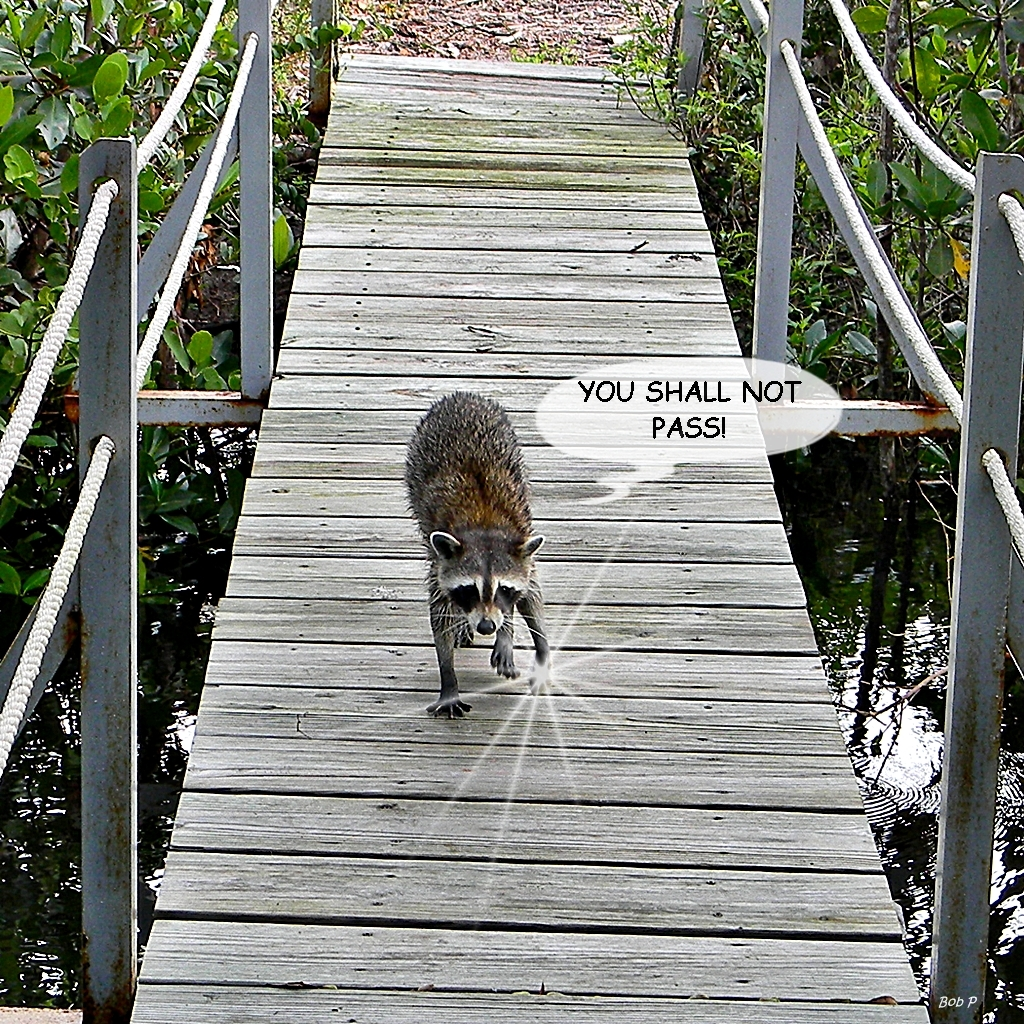raccoon: (403, 393, 553, 726)
